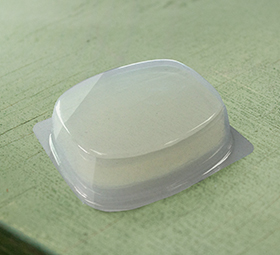PlasticBox: (31, 57, 256, 216)
